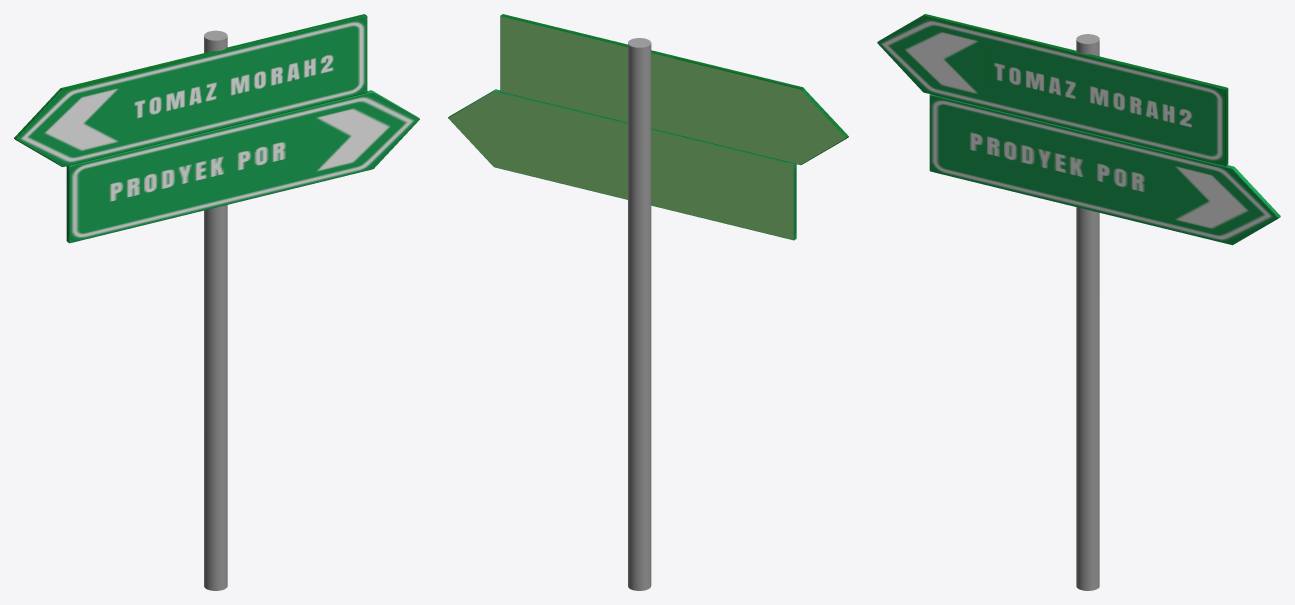
File: INTERSECTION(4).fbx
The picture shows the model from 3 angles, left to right: view 1: azimuth 30°, elevation 25°; view 2: azimuth 150°, elevation 25°; view 3: azimuth 330°, elevation 25°; orthographic projection.
Parts seen in each view (by area): view 1: polySurface5; view 2: polySurface5; view 3: polySurface5.
Part boxes in pixels (bbox=[...]): polySurface5: bbox=[14, 14, 419, 590]; polySurface5: bbox=[448, 14, 848, 590]; polySurface5: bbox=[877, 14, 1280, 590].
Size of the model in its own units: 6.23 by 8.11 by 0.3334.
Materials: 4 (2 with a texture image).
